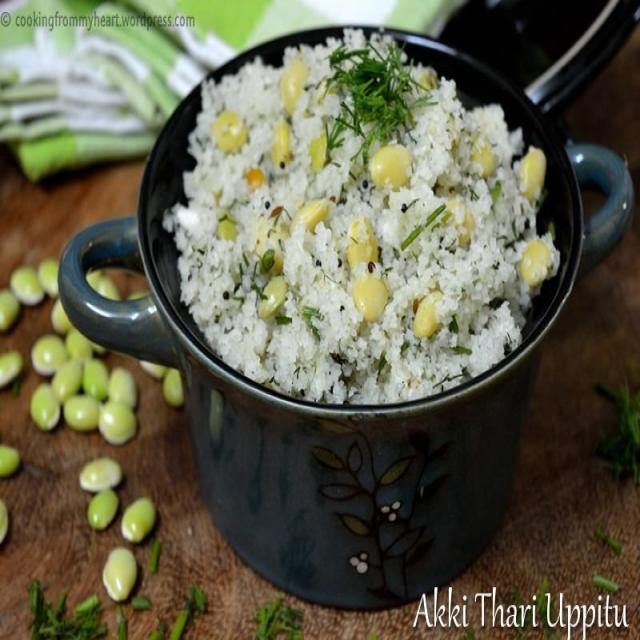upma: (160, 12, 572, 415)
